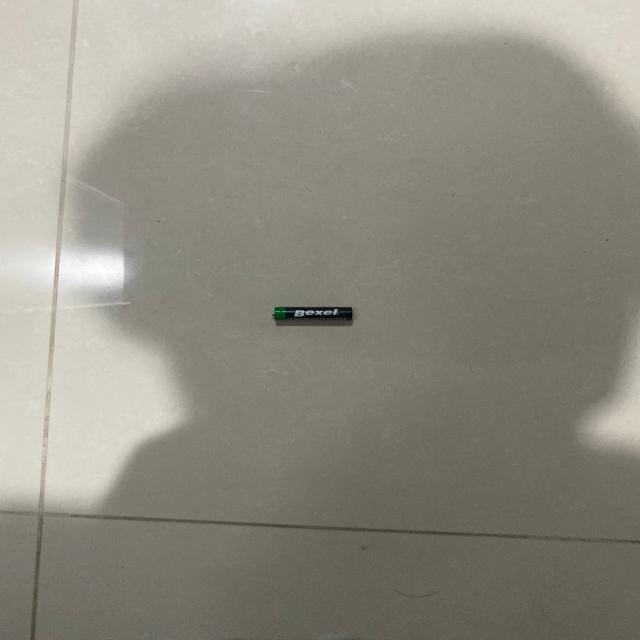AAA: (271, 306, 355, 322)
